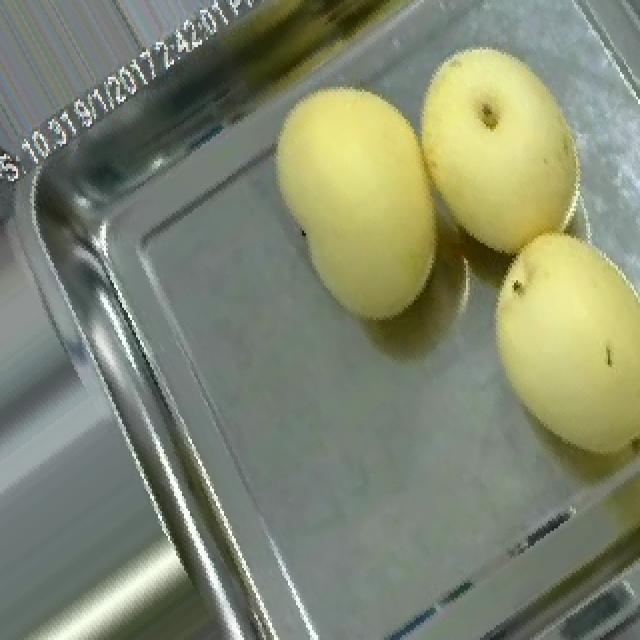Fruit: (242, 60, 462, 342), (390, 20, 606, 278), (456, 206, 640, 486)
